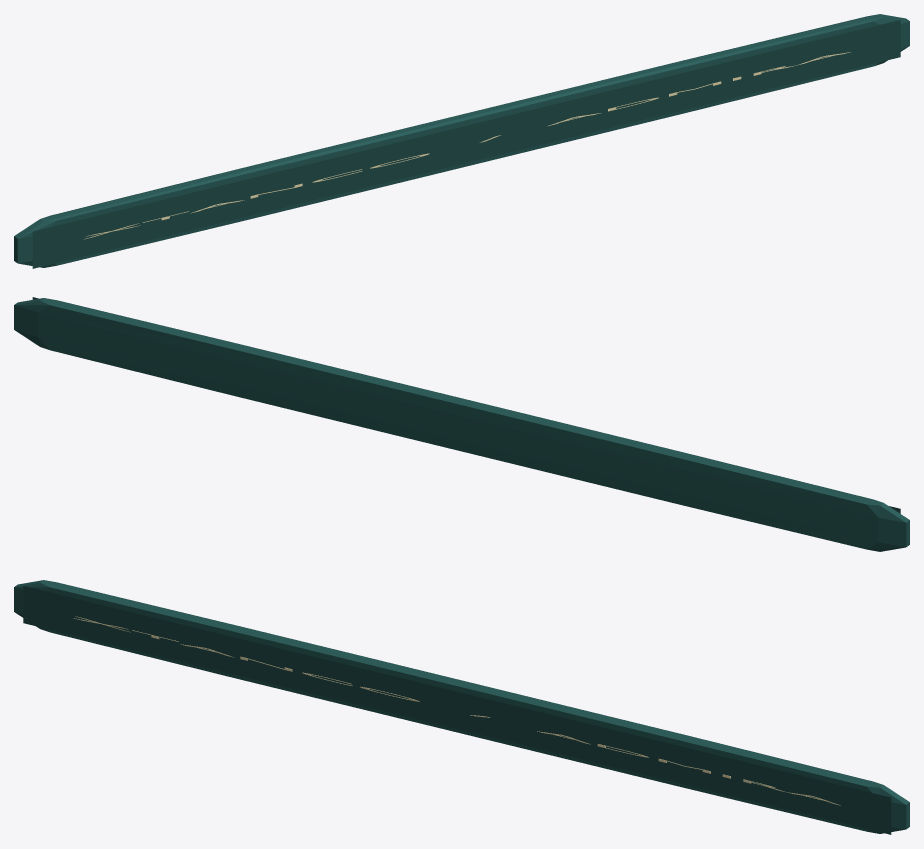
The model's file is best.glb.
The picture shows the model from 3 angles, top to bottom: view 1: azimuth 30°, elevation 25°; view 2: azimuth 150°, elevation 25°; view 3: azimuth 330°, elevation 25°; orthographic projection.
Parts seen in each view (by area): view 1: Native component 1, Native component 0, Sign XTANCO / ADMIRA; view 2: Native component 0; view 3: Native component 1, Native component 0, Sign XTANCO / ADMIRA.
Part boxes in pixels (x1,y1,x2,y2): Native component 1: (32,20,900,268); Native component 0: (14,14,909,267); Sign XTANCO / ADMIRA: (84,52,850,239); Native component 0: (14,298,909,551); Native component 1: (23,586,891,834); Native component 0: (14,580,909,833); Sign XTANCO / ADMIRA: (73,616,840,805).
Bounding box in the file's own units: 5.5 × 0.29 × 0.096.
